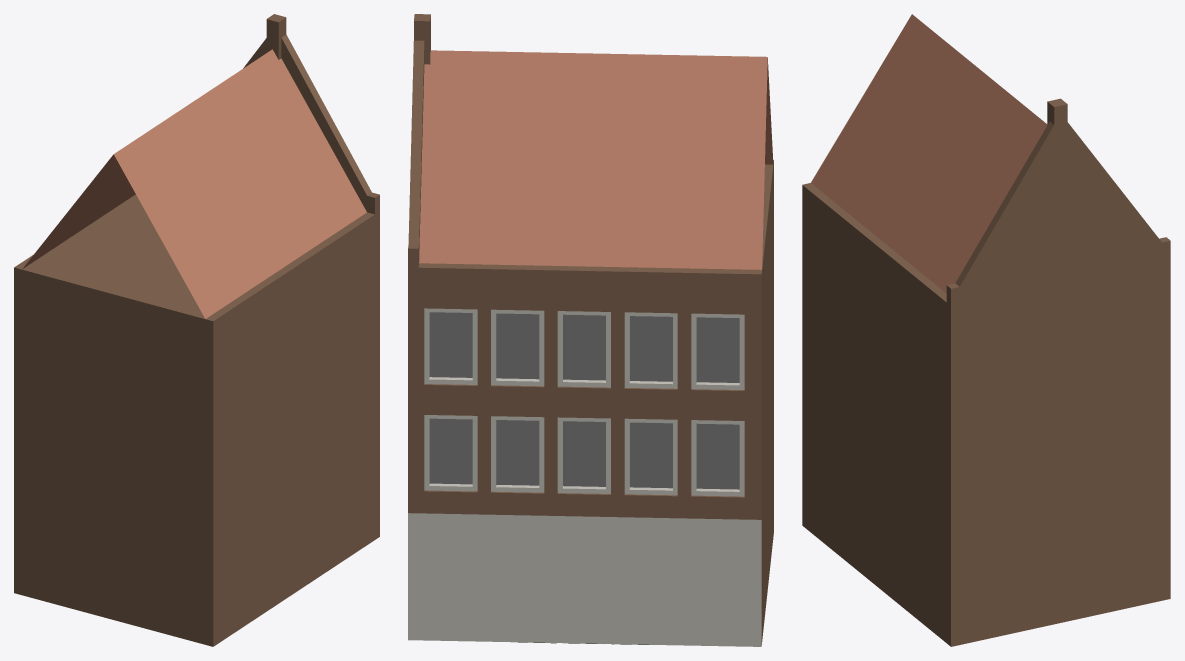
The model's file is Grote_Kattenburgerstraat_2_4.fbx.
3 views of the same model, side by side, from view 1: azimuth 30°, elevation 25°; view 2: azimuth 150°, elevation 25°; view 3: azimuth 270°, elevation 25° (orthographic). The views are drawn at different scales.
Visible parts, largest first — view 1: Grote_Kattenburgerstraat_2_4_walls, Grote_Kattenburgerstraat_2_4_roof; view 2: Grote_Kattenburgerstraat_2_4_walls, Grote_Kattenburgerstraat_2_4_roof, Grote_Kattenburgerstraat_2_4_boolean.001; view 3: Grote_Kattenburgerstraat_2_4_walls, Grote_Kattenburgerstraat_2_4_roof.
Boxes of the visible parts, x1,y1,x2,y2 form: Grote_Kattenburgerstraat_2_4_walls: [14, 194, 379, 646]; Grote_Kattenburgerstraat_2_4_roof: [22, 14, 379, 318]; Grote_Kattenburgerstraat_2_4_walls: [408, 160, 773, 646]; Grote_Kattenburgerstraat_2_4_roof: [408, 14, 773, 269]; Grote_Kattenburgerstraat_2_4_boolean.001: [424, 308, 744, 644]; Grote_Kattenburgerstraat_2_4_walls: [802, 183, 1170, 646]; Grote_Kattenburgerstraat_2_4_roof: [811, 14, 1170, 305].
Size of the model in its own units: 1035 by 1480 by 951.
